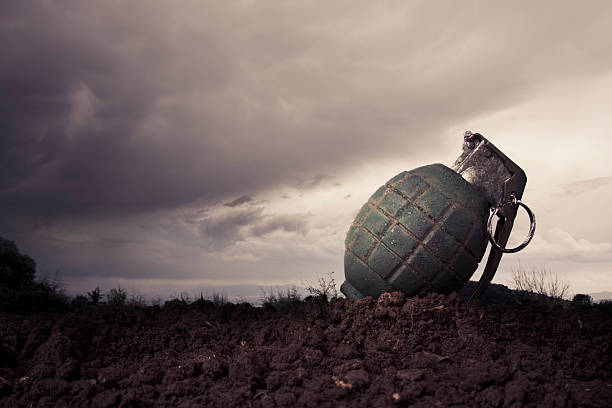e1: (337, 132, 536, 307)
